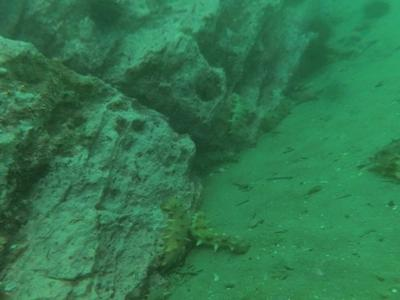holothurian: (189, 207, 248, 255), (160, 197, 189, 276), (365, 134, 397, 184), (258, 99, 288, 135), (227, 90, 247, 141)
